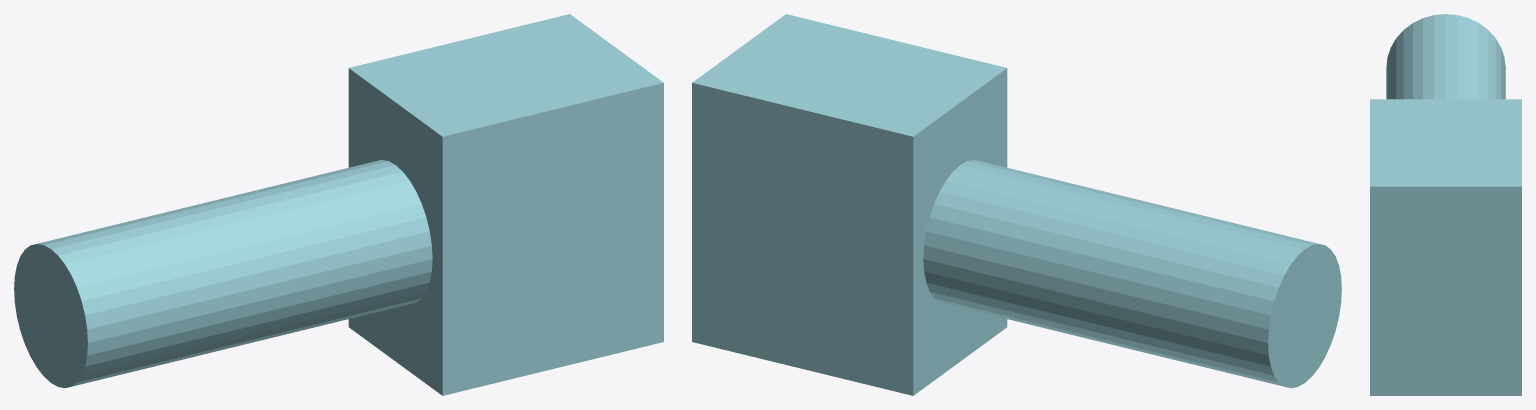
Rendered from cylinder_brush_v11000.obj.
3 views of the same model, side by side, from view 1: azimuth 30°, elevation 25°; view 2: azimuth 150°, elevation 25°; view 3: azimuth 270°, elevation 25° (orthographic). The views are drawn at different scales.
Bounding box in the file's own units: 0.1333 × 0.0583 × 0.0383.
Materials: 1 (1 with a texture image).
